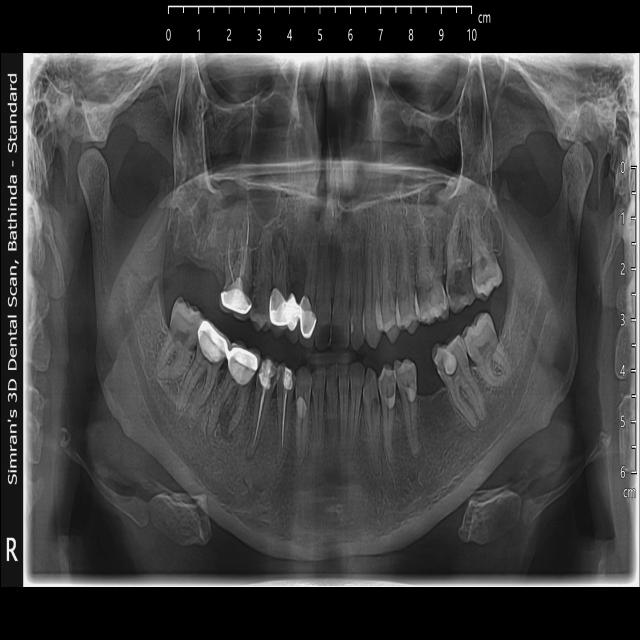Caries: (414, 277, 448, 323), (446, 267, 476, 313), (249, 287, 273, 329), (364, 365, 380, 416)
Crown: (198, 317, 255, 384), (268, 287, 317, 336)
Filling: (220, 283, 251, 315), (294, 363, 311, 419), (394, 360, 417, 399), (378, 364, 397, 409), (443, 347, 458, 375)
Missing teeth: (179, 245, 222, 290), (418, 368, 447, 428), (292, 254, 306, 287)
Periapical lesion: (271, 226, 287, 263), (219, 413, 232, 444)
Root Canal Treatment: (219, 206, 254, 319), (245, 357, 278, 462), (277, 363, 294, 456)
